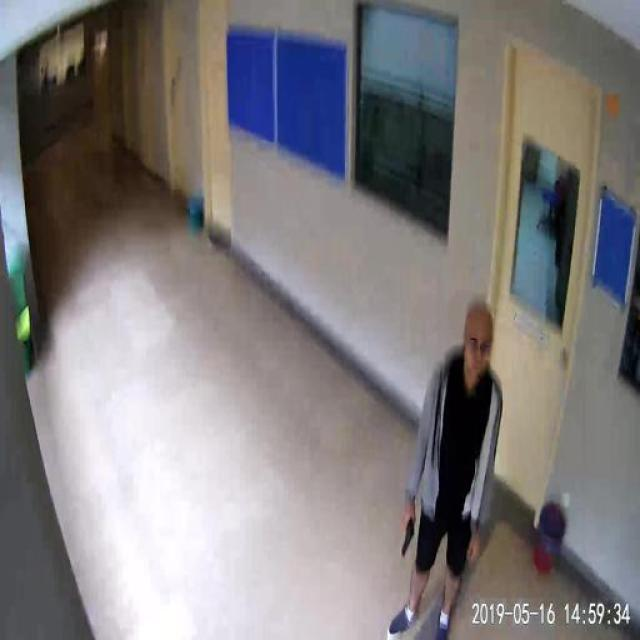Gun: (388, 502, 420, 568)
